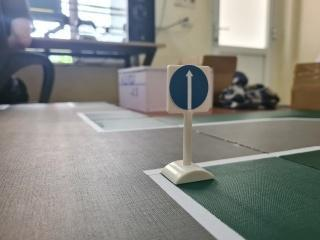straight: (164, 62, 217, 113)
